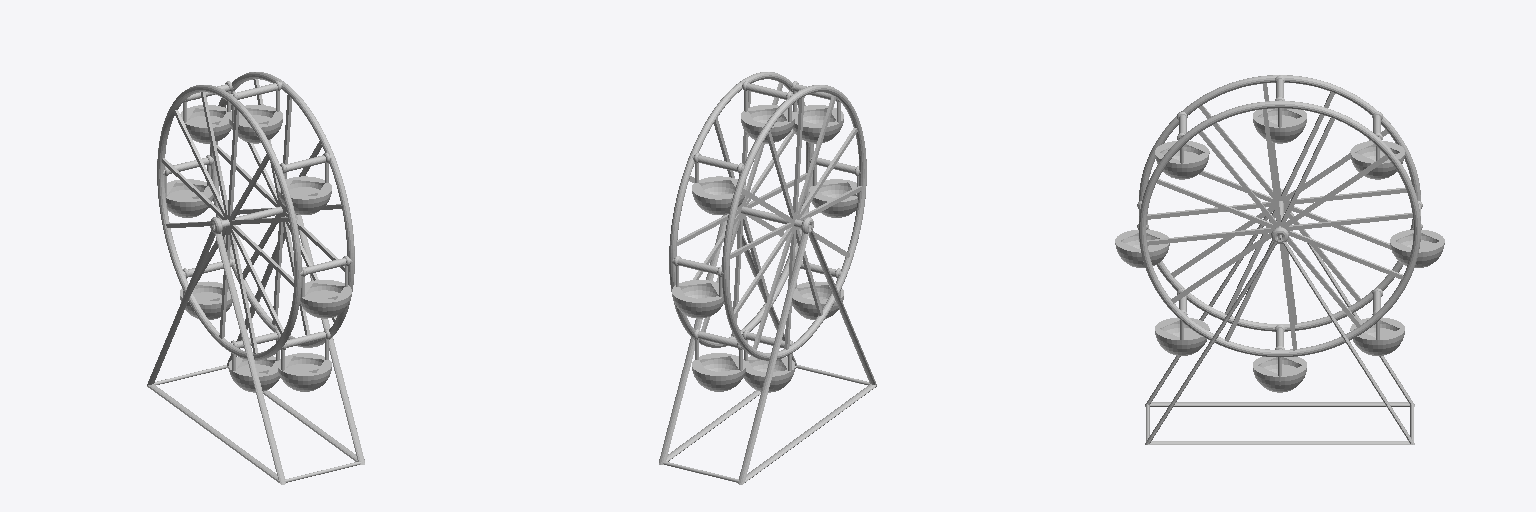
File: RodaGigante.obj
3 views of the same model, side by side, from view 1: azimuth 30°, elevation 25°; view 2: azimuth 150°, elevation 25°; view 3: azimuth 270°, elevation 25° (orthographic).
Parts seen in each view (by area): view 1: Sphere.001_Sphere.007; view 2: Sphere.001_Sphere.007; view 3: Sphere.001_Sphere.007.
Boxes of the visible parts, x1,y1,x2,y2 form: Sphere.001_Sphere.007: [147, 72, 364, 484]; Sphere.001_Sphere.007: [659, 72, 876, 484]; Sphere.001_Sphere.007: [1115, 75, 1444, 444].
Bounding box in the file's own units: 6.5 × 24.5 × 21.6.